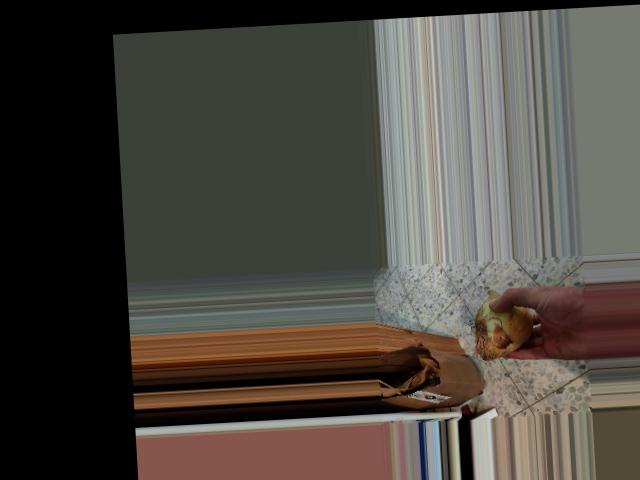onion: (465, 287, 539, 363)
